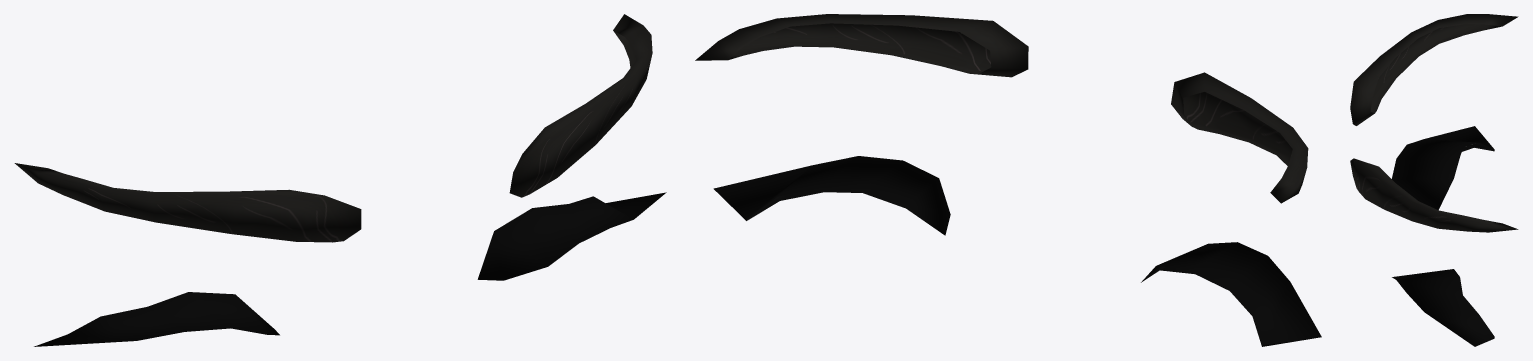
Rendered from brous3.fbx.
3 views of the same model, side by side, from view 1: azimuth 30°, elevation 25°; view 2: azimuth 150°, elevation 25°; view 3: azimuth 270°, elevation 25° (orthographic). The views are drawn at different scales.
Parts seen in each view (by area): view 1: brous3; view 2: brous3; view 3: brous3.
Boxes of the visible parts, <box> form: brous3: <box>14,14,666,346</box>; brous3: <box>695,14,1321,346</box>; brous3: <box>1350,14,1518,346</box>.
Bounding box in the file's own units: 11.14 × 3.09 × 3.59.
